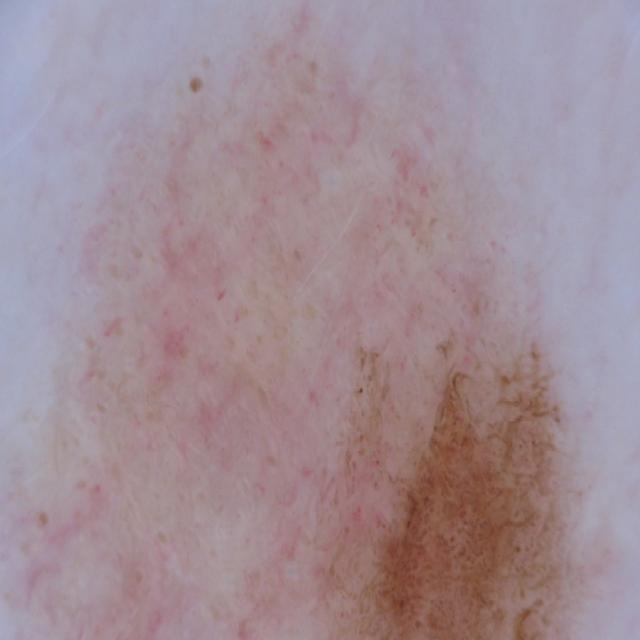Melanoma: (0, 71, 635, 640)
